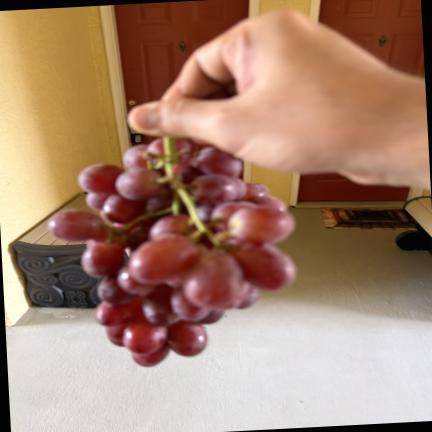grape_cluster: (48, 137, 296, 366)
